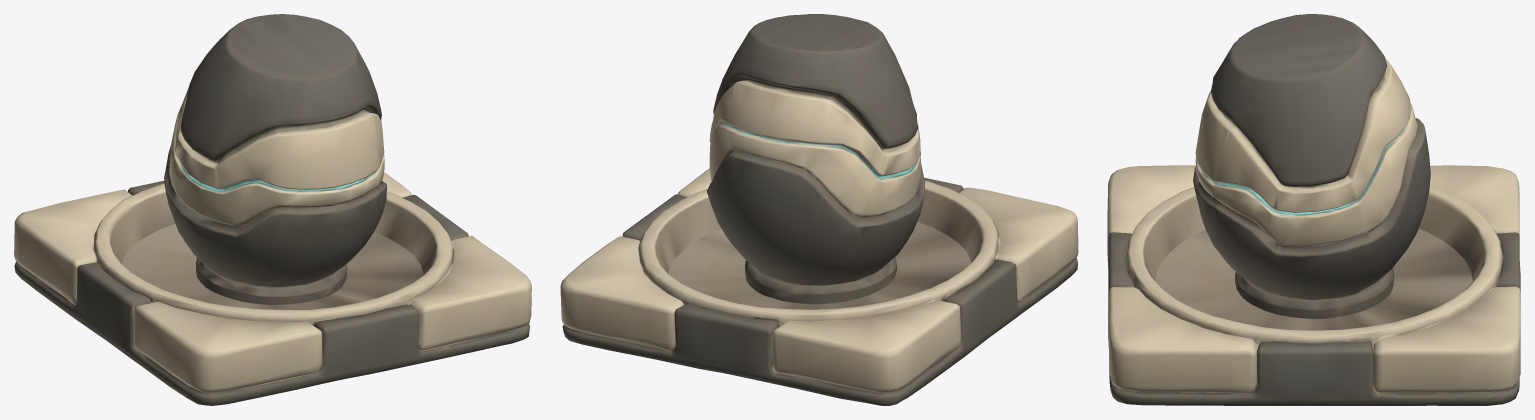
Rendered from mind.glb.
The picture shows the model from 3 angles, left to right: view 1: azimuth 30°, elevation 25°; view 2: azimuth 150°, elevation 25°; view 3: azimuth 270°, elevation 25°; orthographic projection. The views are drawn at different scales.
Parts seen in each view (by area): view 1: tripo_node_79fc1f27-4c3d-46a1-a5be-91bb9b186556; view 2: tripo_node_79fc1f27-4c3d-46a1-a5be-91bb9b186556; view 3: tripo_node_79fc1f27-4c3d-46a1-a5be-91bb9b186556.
Boxes of the visible parts, x1,y1,x2,y2 form: tripo_node_79fc1f27-4c3d-46a1-a5be-91bb9b186556: [14, 14, 531, 405]; tripo_node_79fc1f27-4c3d-46a1-a5be-91bb9b186556: [560, 14, 1078, 405]; tripo_node_79fc1f27-4c3d-46a1-a5be-91bb9b186556: [1107, 14, 1520, 405].
Bounding box in the file's own units: 0.998 × 0.7676 × 0.998.
Materials: 1 (1 with a texture image).
